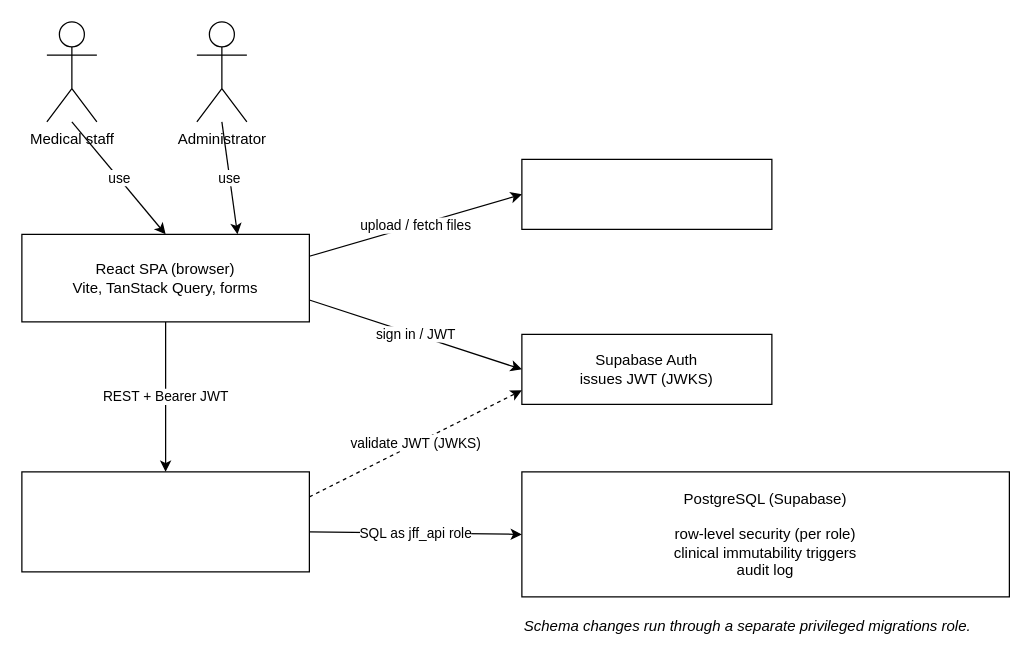
The diagram is 1031 pixels wide and 658 high, and some of its shapes have lost their labels. The shapes that lost their labels are listed below. From the top down, each one's centre as x and y in pixels, then its label:
(x=646, y=193): Supabase Storage photos, consent PDFs
(x=165, y=521): .NET API ASP.NET Core, EF Core role policies: medical / admin
